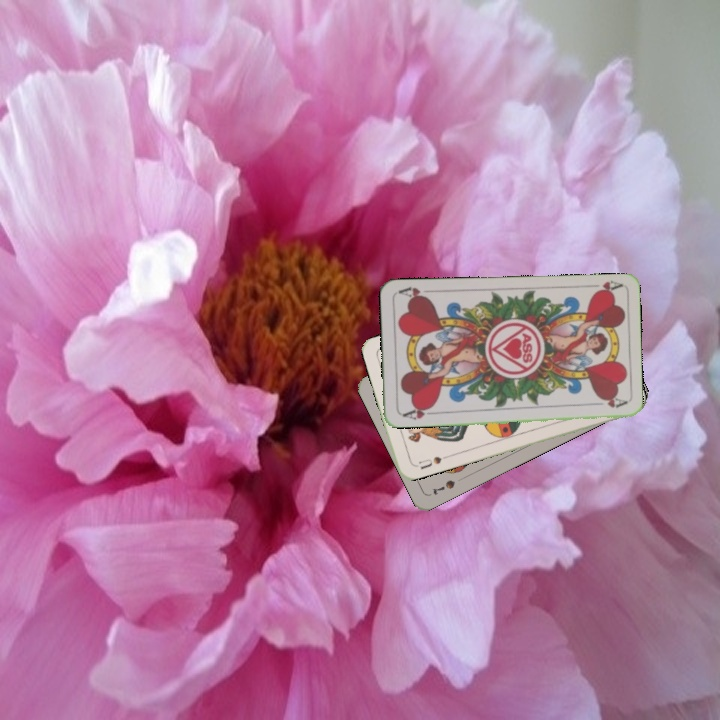HA: (583, 277, 624, 297), (398, 402, 438, 422)
S7: (428, 476, 458, 497)
SU: (415, 452, 444, 472)
